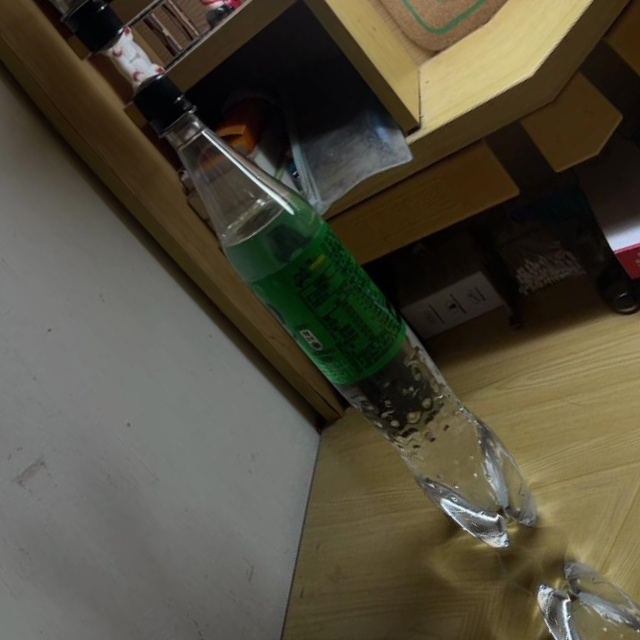Sprite: (103, 50, 568, 576)
